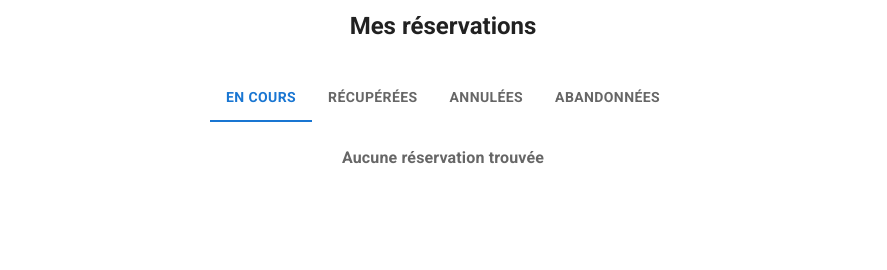
Test: ReservationHistoryPage › displays a recovered reservation
The width and height of the screenshot is (887, 270).
Step 1. Click the tab "Récupérées" → (373, 98), box [312,74,434,122]
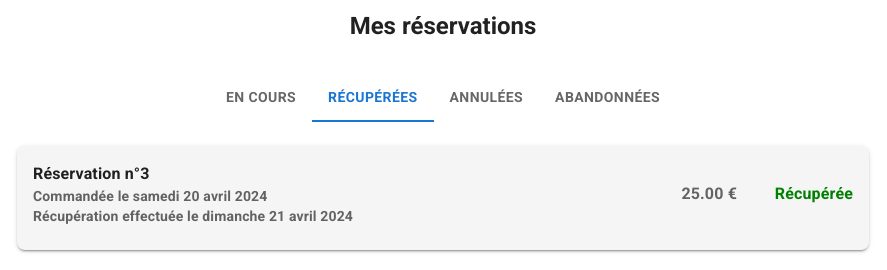
Expected: the text "Récupérée" is shown, [775,184,853,203]
